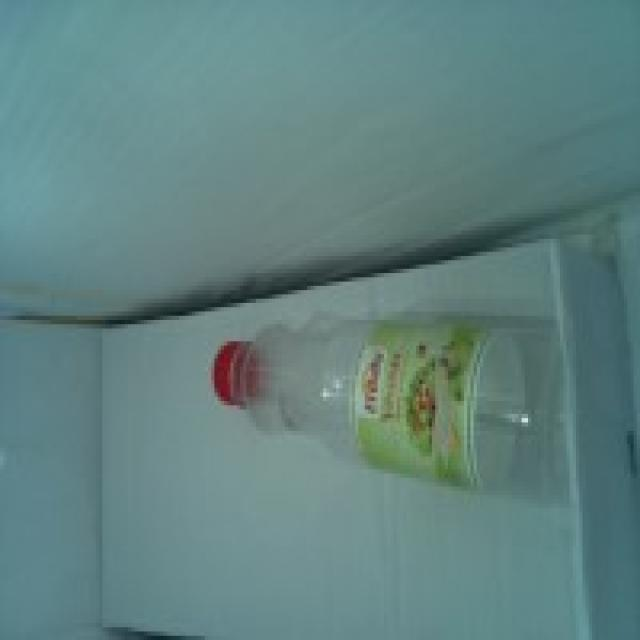Anorganik: (208, 307, 570, 512)
